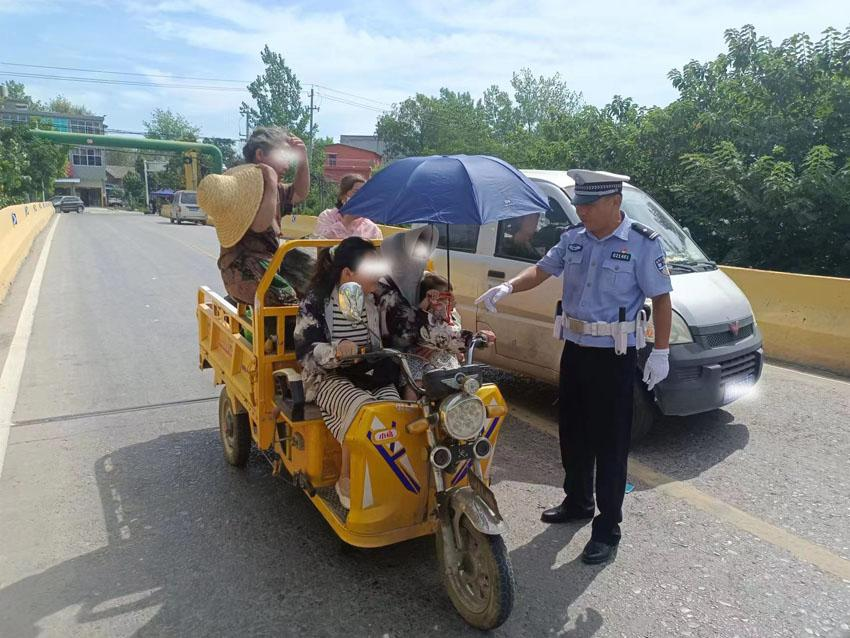driver: (295, 237, 398, 402)
overloading: (183, 125, 521, 627)
passenger: (195, 113, 299, 318), (399, 271, 477, 378), (304, 160, 383, 248)
